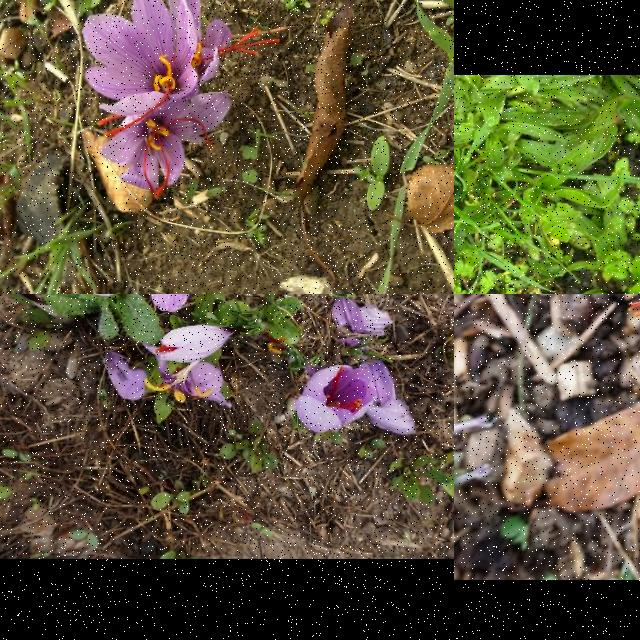flower: (295, 365, 377, 435), (154, 324, 238, 364)
overlap: (81, 0, 281, 200)
